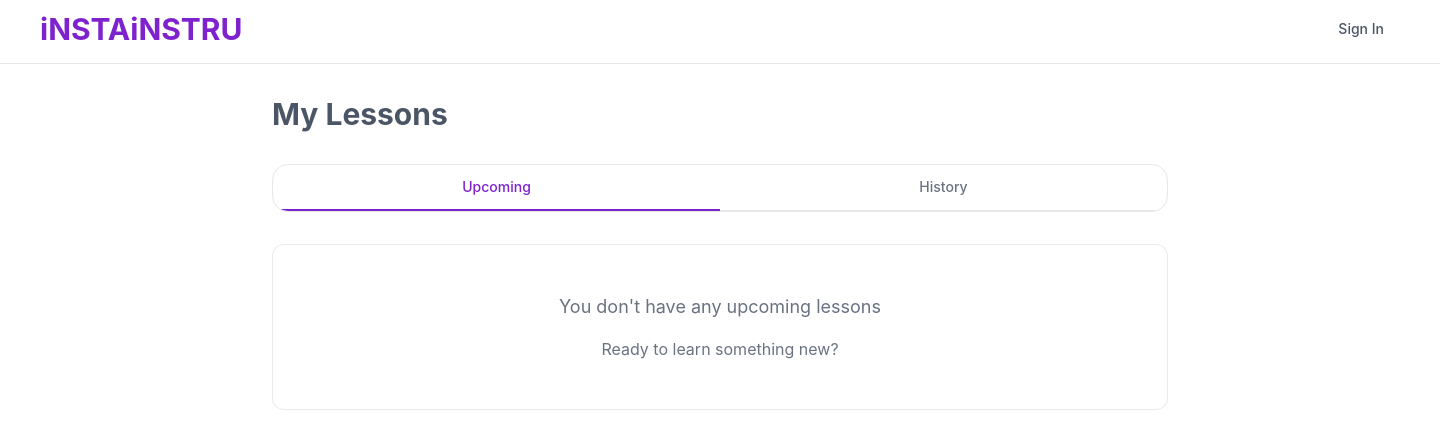
MyLessonsPage › shows empty state for history
The image size is (1440, 427).
Click the tab "History": {"x": 944, "y": 188} [720,165,1167,211]
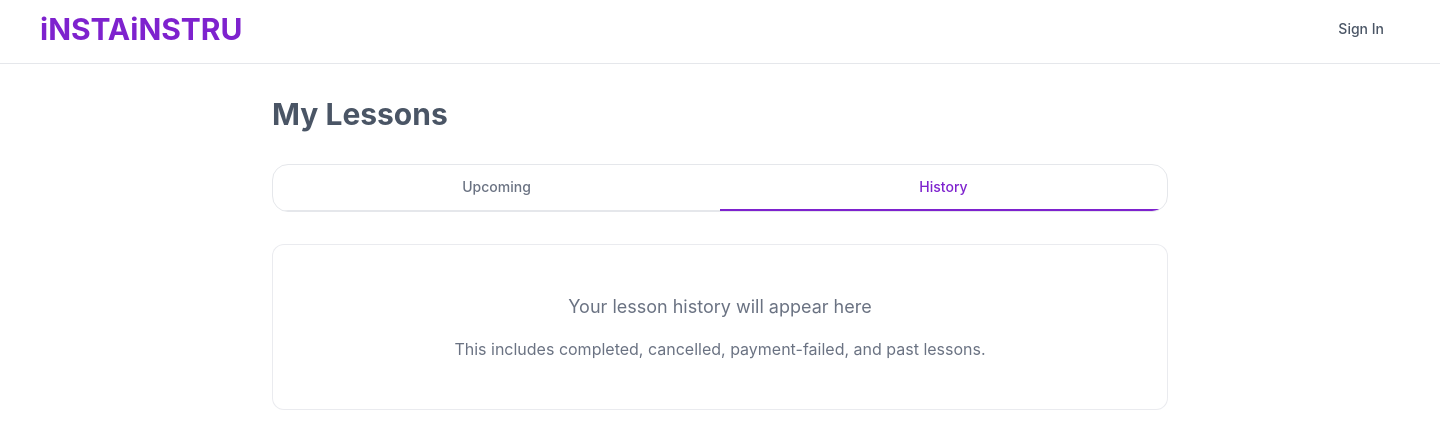
Result: the text "Your lesson history will appear here" is shown at [568,296,872,317]
Result: the text "This includes completed, cancelled, payment-failed, and past lessons." is shown at [454,339,986,359]
